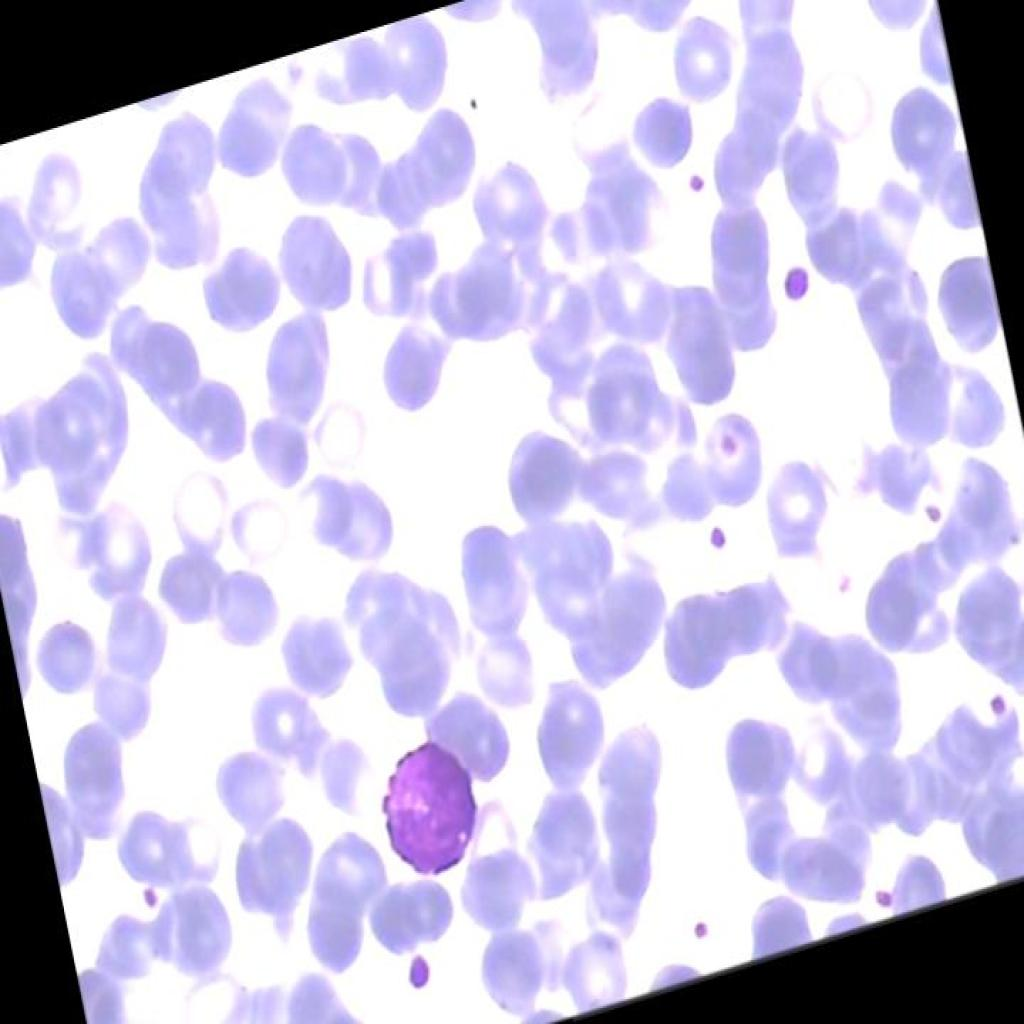Basofil: (356, 713, 498, 903)
Platelet: (698, 398, 752, 468), (398, 940, 445, 1004), (772, 235, 816, 302), (858, 862, 898, 919), (680, 907, 722, 960), (131, 868, 172, 919), (694, 507, 731, 560), (684, 160, 718, 212), (978, 679, 1010, 724), (916, 496, 946, 535)
